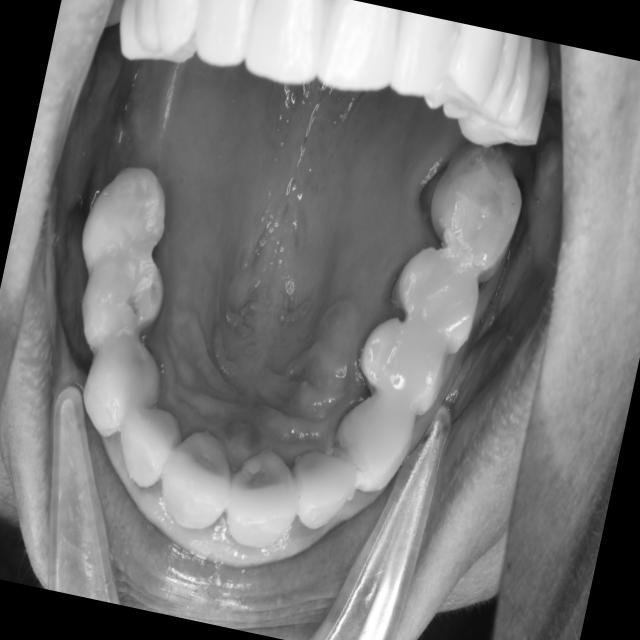tooth: (411, 132, 538, 289), (63, 235, 184, 368), (68, 151, 186, 287), (342, 296, 464, 426), (147, 405, 253, 551), (64, 322, 176, 460), (377, 233, 495, 361), (211, 432, 316, 569), (320, 378, 426, 500), (269, 437, 372, 546), (107, 388, 193, 499)
